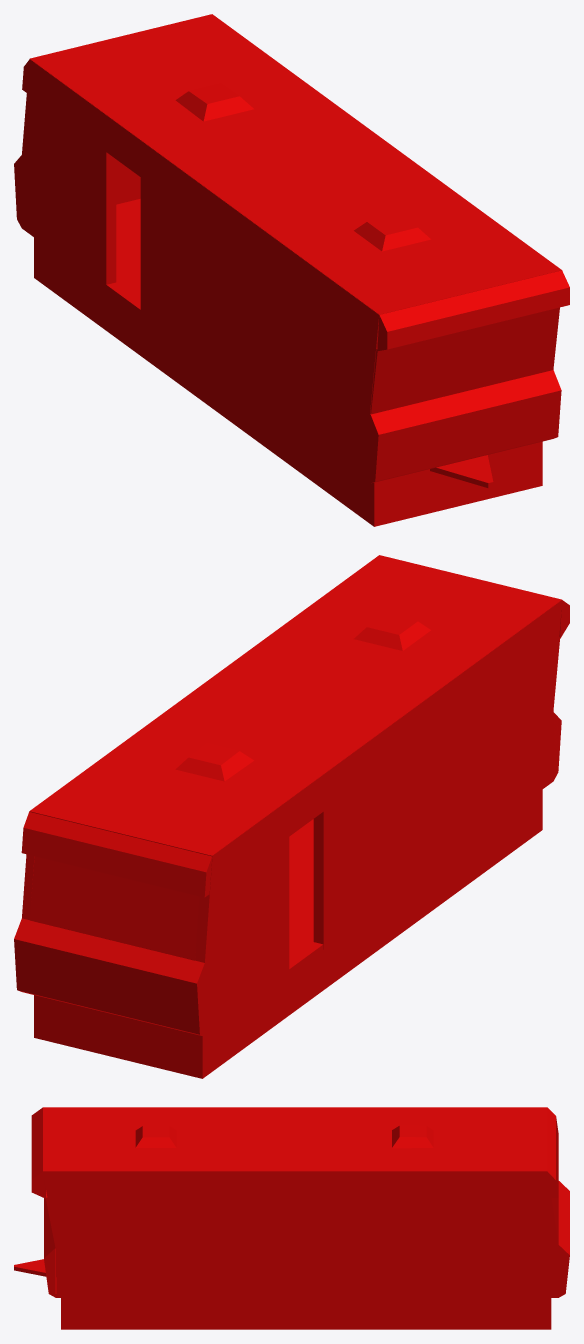
Rendered from SM_Bld_Trailer_02_Collision.fbx.
3 views of the same model, one above another, from view 1: azimuth 30°, elevation 25°; view 2: azimuth 150°, elevation 25°; view 3: azimuth 270°, elevation 25° (orthographic). The views are drawn at different scales.
Parts seen in each view (by area): view 1: SM_Bld_Trailer_02_Collision; view 2: SM_Bld_Trailer_02_Collision; view 3: SM_Bld_Trailer_02_Collision.
Boxes of the visible parts, x1,y1,x2,y2 form: SM_Bld_Trailer_02_Collision: [14, 14, 569, 526]; SM_Bld_Trailer_02_Collision: [14, 555, 569, 1078]; SM_Bld_Trailer_02_Collision: [14, 1107, 569, 1329].
Bounding box in the file's own units: 326 × 398 × 1187.
